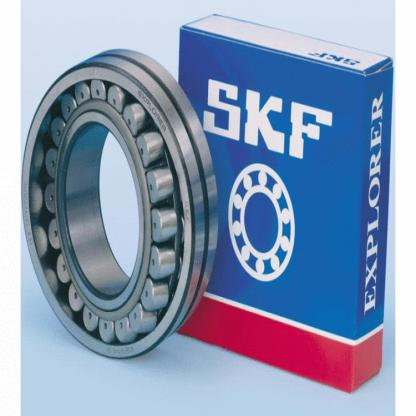FOD: (20, 45, 227, 366)
